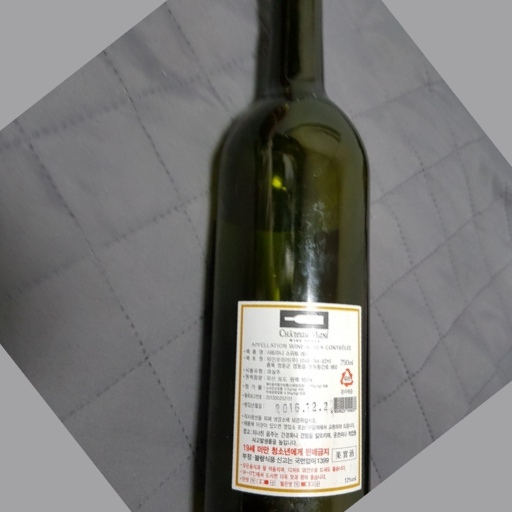Glass_2: (200, 1, 374, 512)
